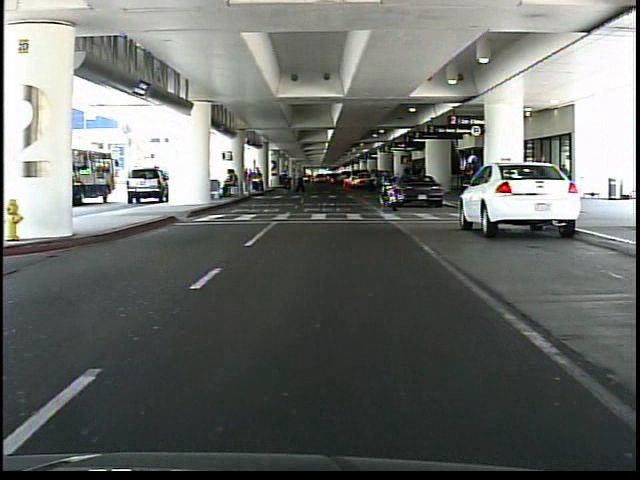person: (459, 151, 482, 223)
